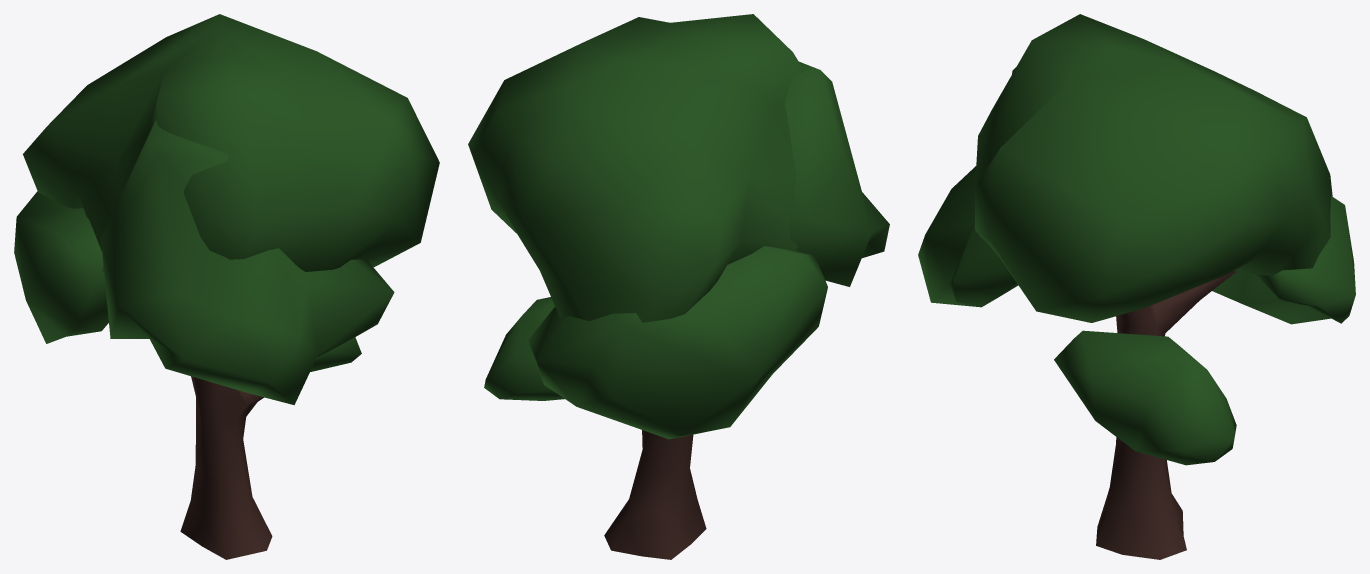
3 renders of one model, left to right at view 1: azimuth 30°, elevation 25°; view 2: azimuth 150°, elevation 25°; view 3: azimuth 270°, elevation 25°, orthographic. The views are drawn at different scales.
Parts seen in each view (by area): view 1: tree_013; view 2: tree_013; view 3: tree_013.
Boxes of the visible parts, x1,y1,x2,y2 form: tree_013: [14, 14, 439, 559]; tree_013: [468, 14, 889, 559]; tree_013: [918, 14, 1355, 559].
Size of the model in its own units: 5.74 by 7.49 by 6.14.
